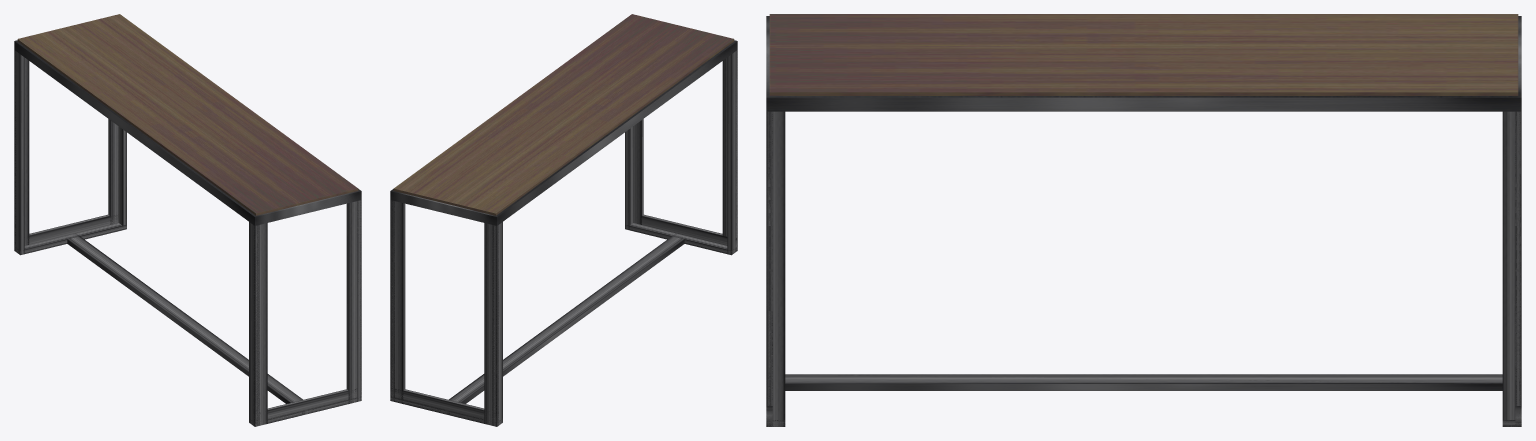
The model's file is bench2.obj.
3 views of the same model, side by side, from view 1: azimuth 30°, elevation 25°; view 2: azimuth 150°, elevation 25°; view 3: azimuth 270°, elevation 25° (orthographic). The views are drawn at different scales.
Parts seen in each view (by area): view 1: Box002, Box001, Box007, Box010, Box006, Box004, Box008, Box005, Box009; view 2: Box002, Box001, Box004, Box010, Box008, Box007, Box006, Box009, Box005; view 3: Box002, Box001, Box010, Box006, Box008.
Part boxes in pixels (<box>): Box002: <box>17,14,358,215</box>; Box001: <box>14,40,361,225</box>; Box007: <box>249,222,267,426</box>; Box010: <box>65,233,313,414</box>; Box006: <box>346,200,361,403</box>; Box004: <box>14,50,29,254</box>; Box008: <box>108,119,126,229</box>; Box005: <box>14,214,126,254</box>; Box009: <box>249,388,361,426</box>; Box002: <box>393,14,734,215</box>; Box001: <box>390,40,737,225</box>; Box004: <box>484,222,502,426</box>; Box010: <box>437,233,684,415</box>; Box008: <box>390,200,405,403</box>; Box007: <box>722,50,737,254</box>; Box006: <box>625,119,643,229</box>; Box009: <box>625,214,736,254</box>; Box005: <box>390,388,502,426</box>; Box002: <box>769,14,1518,95</box>; Box001: <box>766,16,1521,111</box>; Box010: <box>785,374,1502,390</box>; Box006: <box>766,111,785,426</box>; Box008: <box>1502,111,1521,426</box>.
Size of the model in its own units: 15.6 by 29.63 by 60.92.
2 materials, 2 textured.
